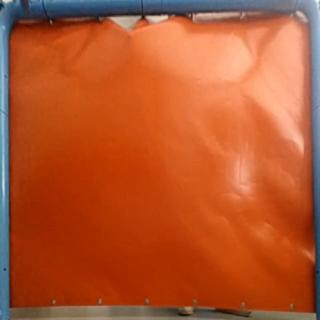Hit-hRxx: (124, 30, 137, 43)
